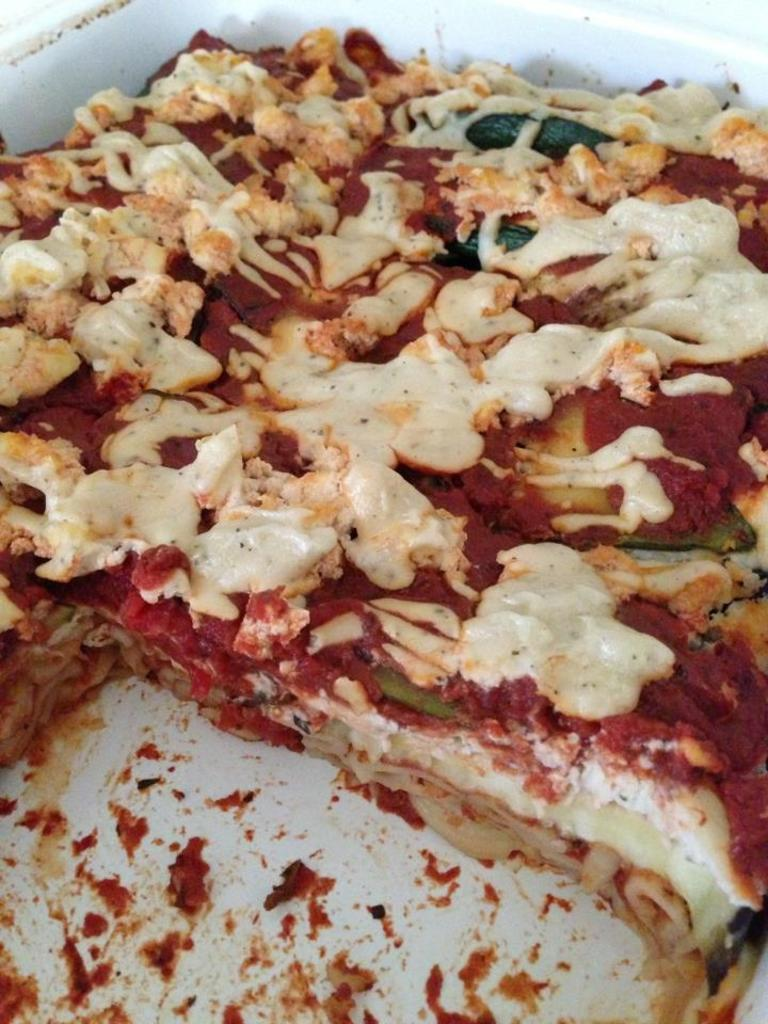pizza: (0, 17, 756, 1018)
